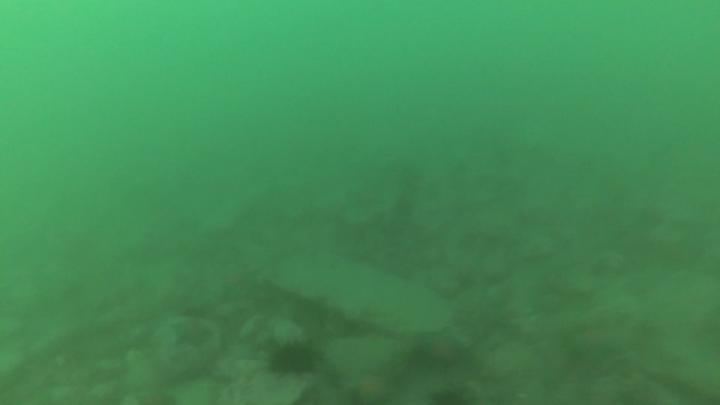echinus: (262, 337, 323, 381), (426, 387, 477, 405)
starfish: (422, 328, 466, 372), (167, 316, 213, 353), (346, 370, 394, 405)
